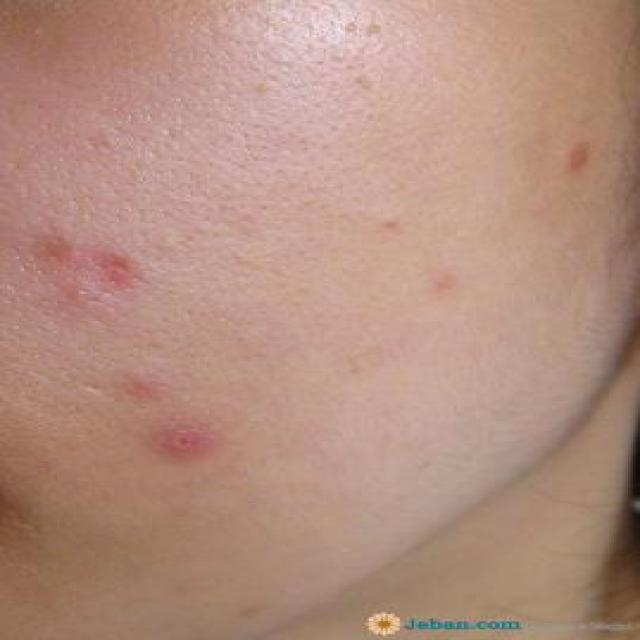dark spot: (92, 352, 204, 412)
papules: (136, 409, 245, 480), (76, 237, 179, 295), (535, 116, 614, 190), (48, 268, 128, 322)
